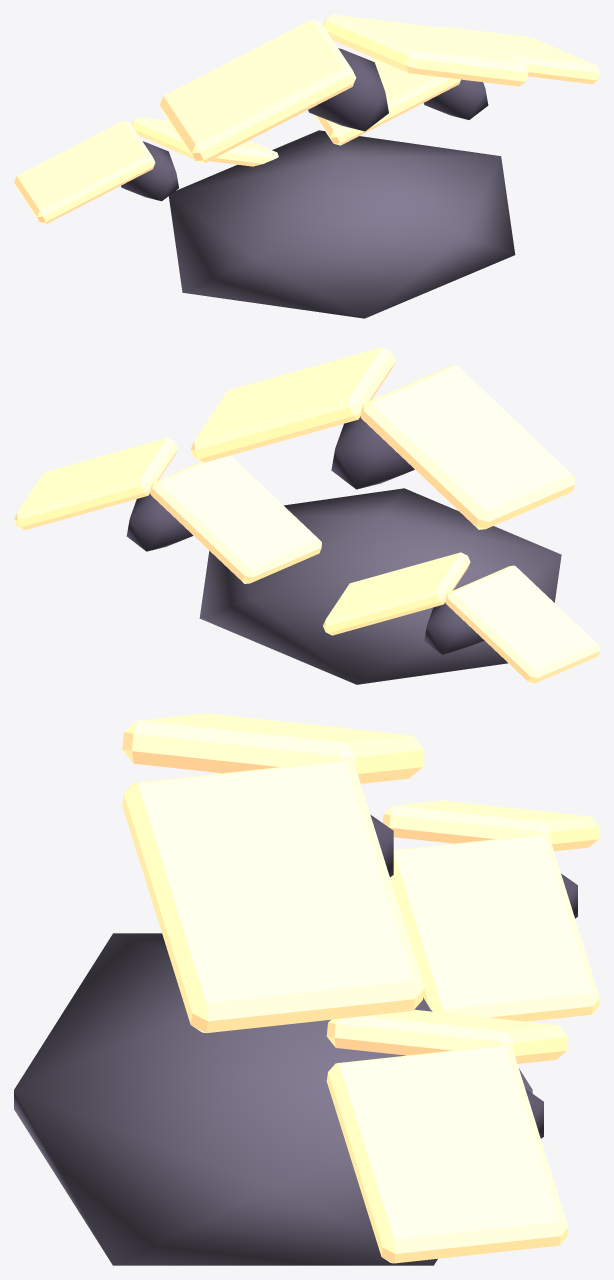
Rendered from ember_moth_cluster.glb.
3 views of the same model, one above another, from view 1: azimuth 30°, elevation 25°; view 2: azimuth 150°, elevation 25°; view 3: azimuth 270°, elevation 25° (orthographic). The views are drawn at different scales.
Parts seen in each view (by area): view 1: ember_moth_cluster_Body, ember_moth_cluster_Moth0.001, ember_moth_cluster_Moth2.001, ember_moth_cluster_Moth1.001; view 2: ember_moth_cluster_Moth0.001, ember_moth_cluster_Body, ember_moth_cluster_Moth1.001, ember_moth_cluster_Moth2.001; view 3: ember_moth_cluster_Body, ember_moth_cluster_Moth0.001, ember_moth_cluster_Moth1.001, ember_moth_cluster_Moth2.001.
Part boxes in pixels (x1,y1,x2,y2): ember_moth_cluster_Body: (168,130,515,318); ember_moth_cluster_Moth0.001: (160,14,528,163); ember_moth_cluster_Moth2.001: (14,117,278,223); ember_moth_cluster_Moth1.001: (314,26,599,145); ember_moth_cluster_Moth0.001: (190,347,575,529); ember_moth_cluster_Body: (199,488,561,684); ember_moth_cluster_Moth1.001: (14,438,321,583); ember_moth_cluster_Moth2.001: (323,552,599,683); ember_moth_cluster_Body: (14,933,532,1265); ember_moth_cluster_Moth0.001: (122,713,424,1033); ember_moth_cluster_Moth1.001: (326,1009,568,1263); ember_moth_cluster_Moth2.001: (382,800,599,1021).
Bounding box in the file's own units: 1.05 × 0.4722 × 0.5381.
